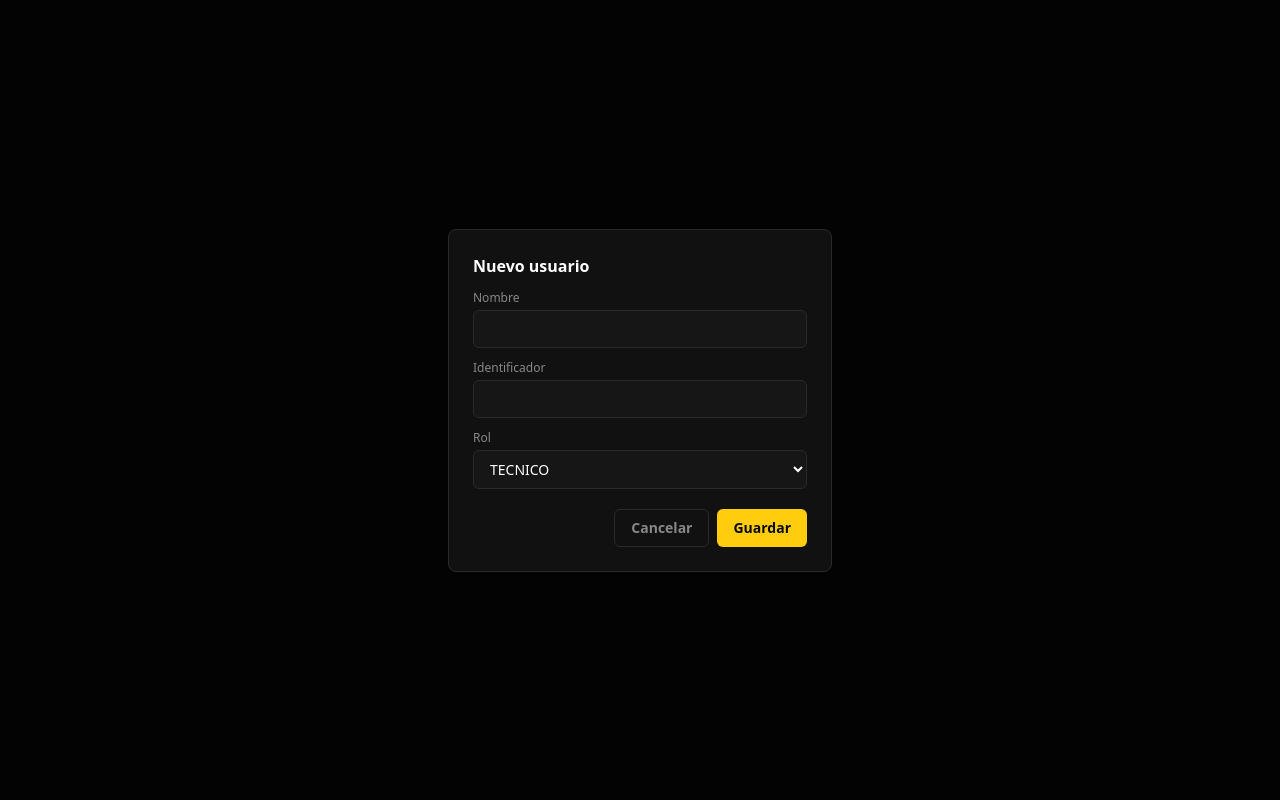
Scenario: UserFormModal › alta: identificador duplicado muestra el mensaje del backend
This screenshot has width=1280, height=800.
In the field labelled "Nombre": (640, 328) top-left (473, 310), bottom-right (807, 348), type "Ana"
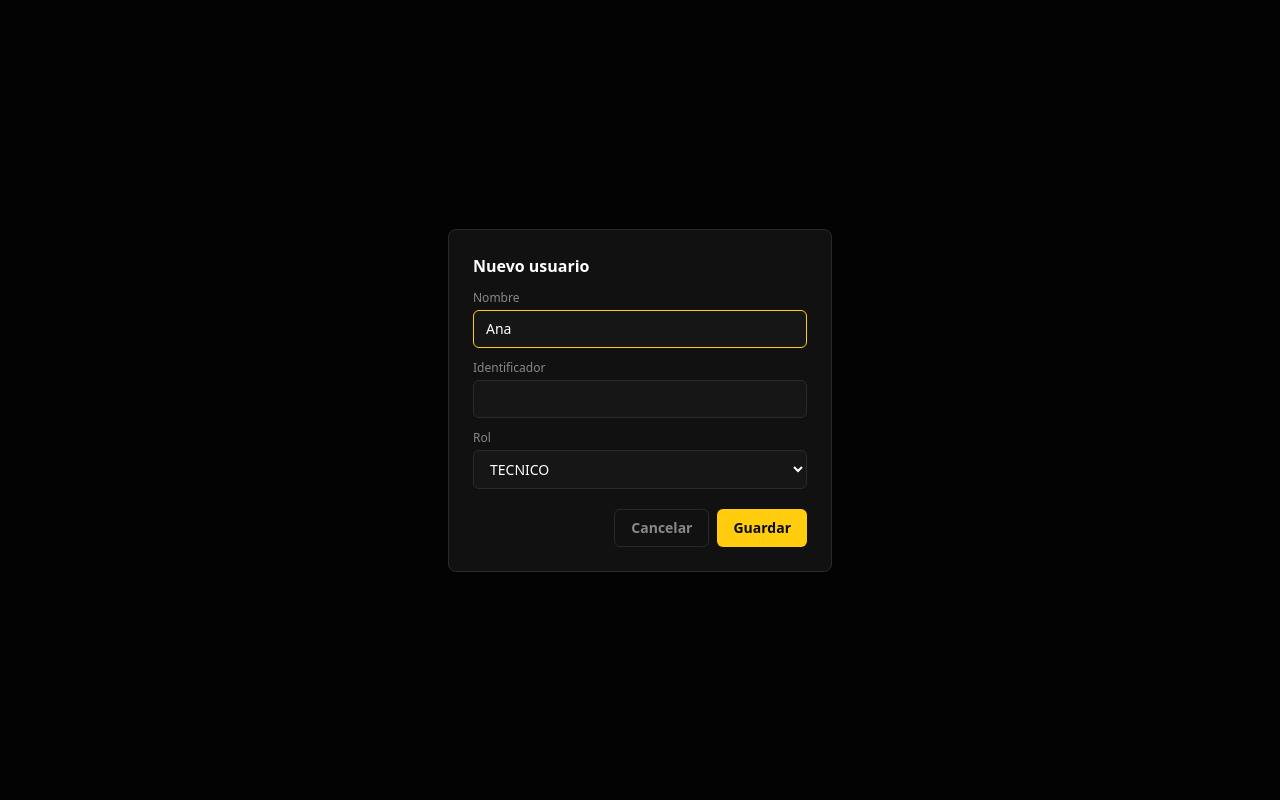
In the field labelled "Identificador": (640, 398) top-left (473, 380), bottom-right (807, 418), type "dup@taller.cl"
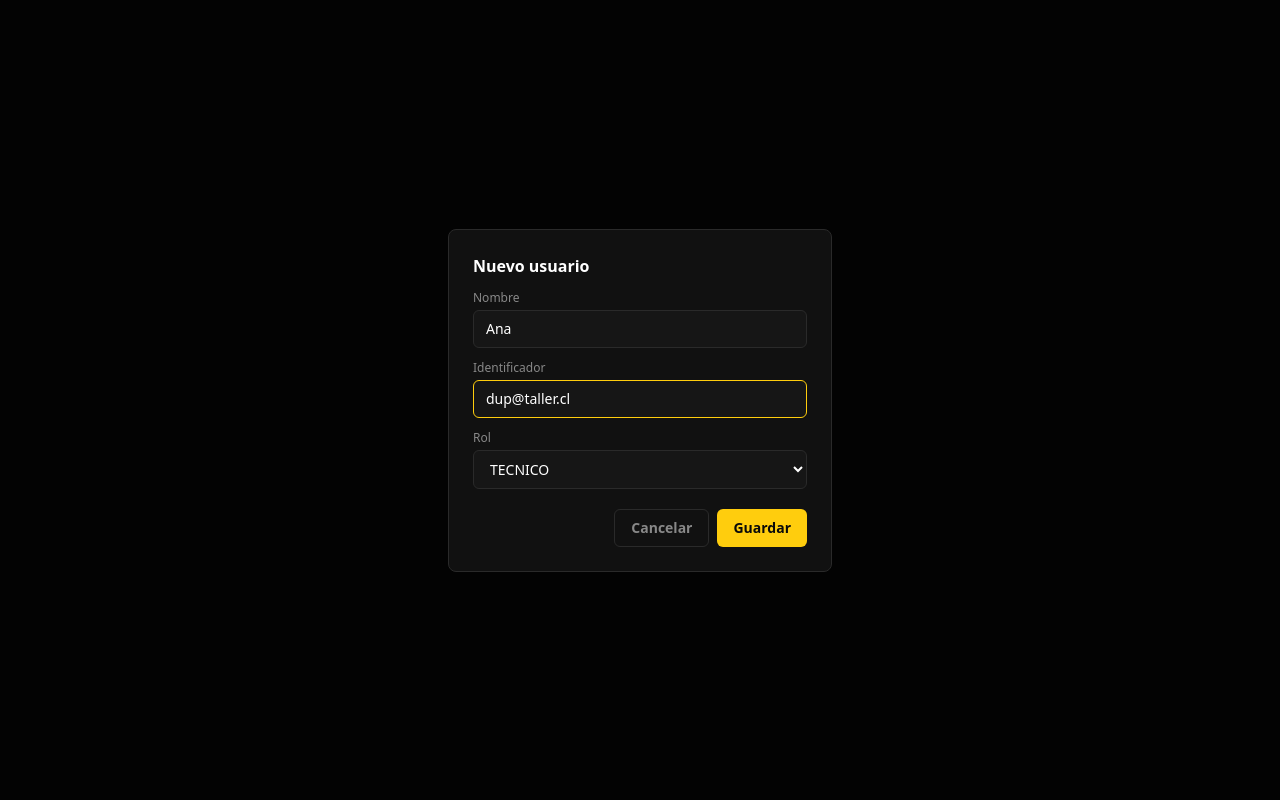
Click the button "Guardar": (762, 528) top-left (718, 508), bottom-right (807, 546)
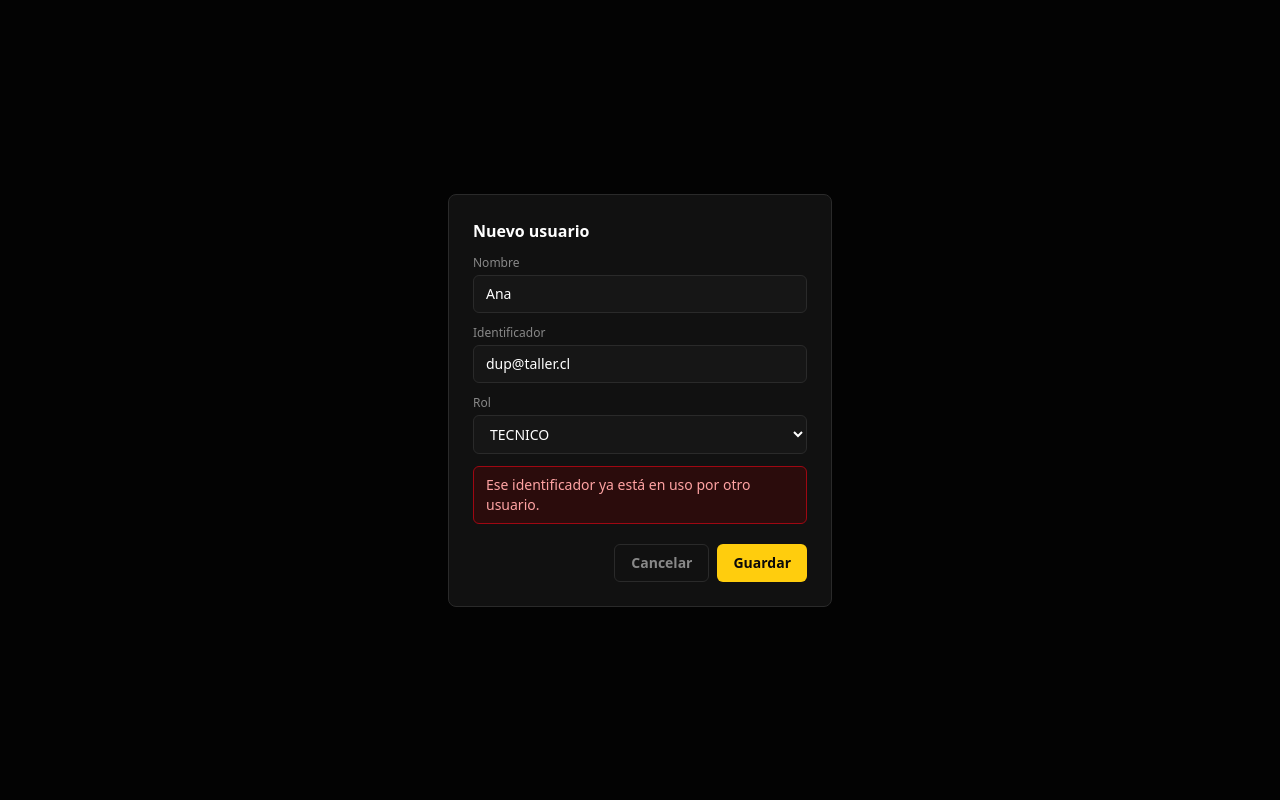
Expected: the text "Ese identificador ya está en uso por otro usuario." is shown, top-left (473, 466), bottom-right (807, 524)
